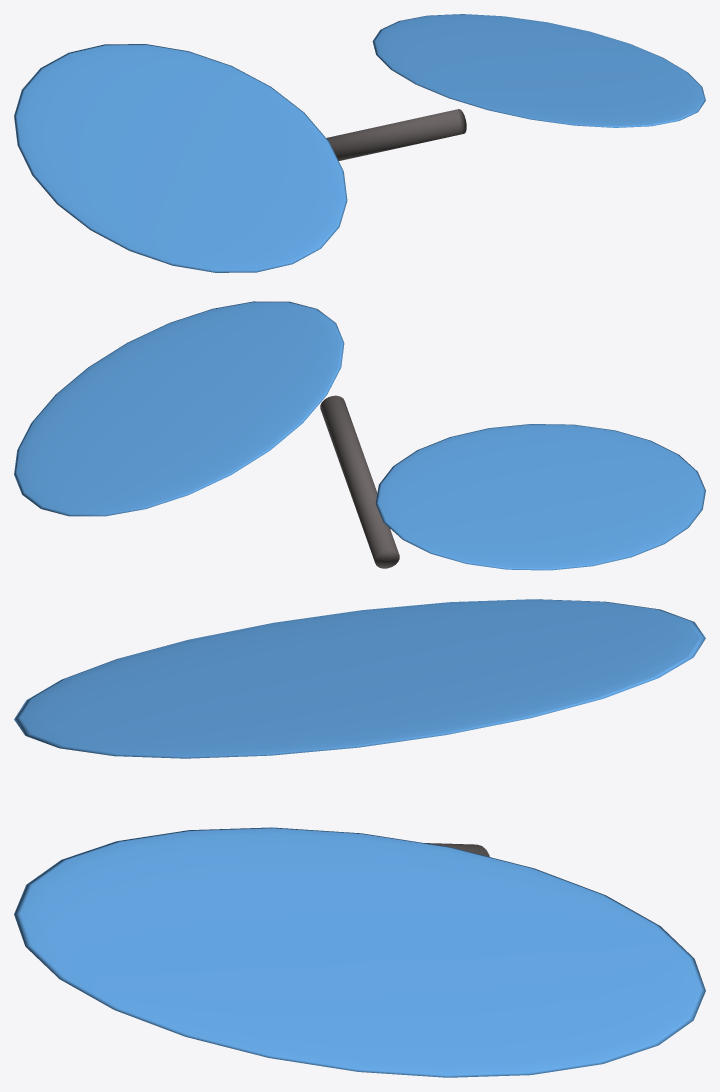
The model's file is butterfly.glb.
The picture shows the model from 3 angles, top to bottom: view 1: azimuth 30°, elevation 25°; view 2: azimuth 150°, elevation 25°; view 3: azimuth 270°, elevation 25°; orthographic projection. The views are drawn at different scales.
Visible parts, largest first — view 1: wing_l, wing_r, body; view 2: wing_r, wing_l, body; view 3: wing_r, wing_l.
Boxes of the visible parts, bbox=[...] form: wing_l: bbox=[14, 44, 347, 272]; wing_r: bbox=[372, 14, 705, 127]; body: bbox=[326, 109, 466, 160]; wing_r: bbox=[14, 301, 344, 516]; wing_l: bbox=[375, 424, 705, 570]; body: bbox=[320, 395, 399, 568]; wing_r: bbox=[14, 827, 705, 1077]; wing_l: bbox=[14, 599, 705, 758].
Size of the model in its own units: 2.19 by 0.3588 by 1.39.
